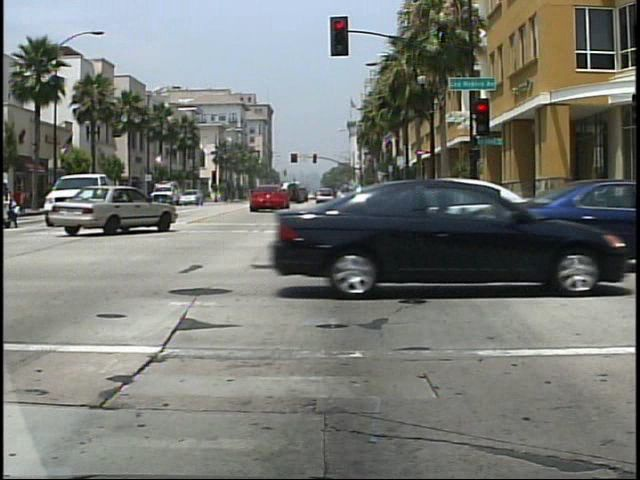person: (2, 173, 21, 230)
